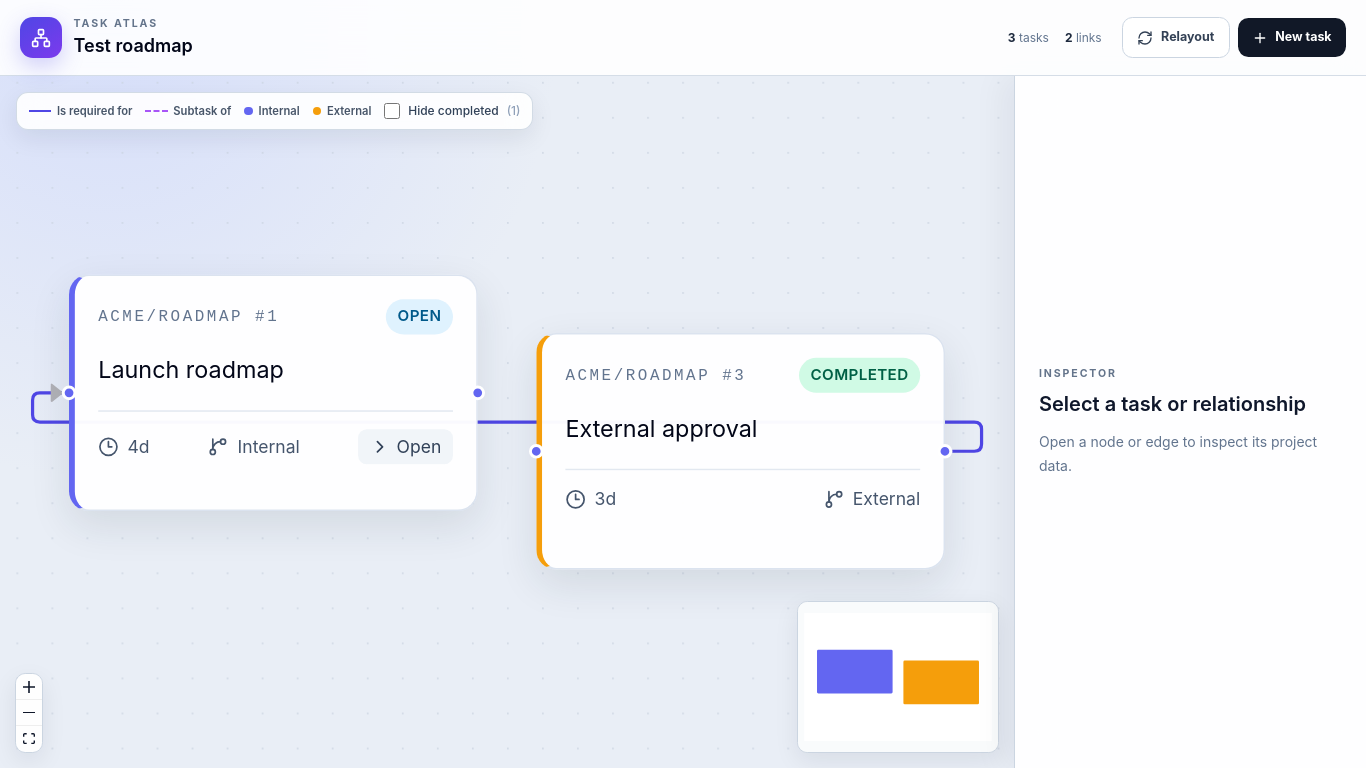
Test: App › creates a task through the API and selects its new graph node
Click the button "New task": (1292, 38) [1238,18,1346,57]
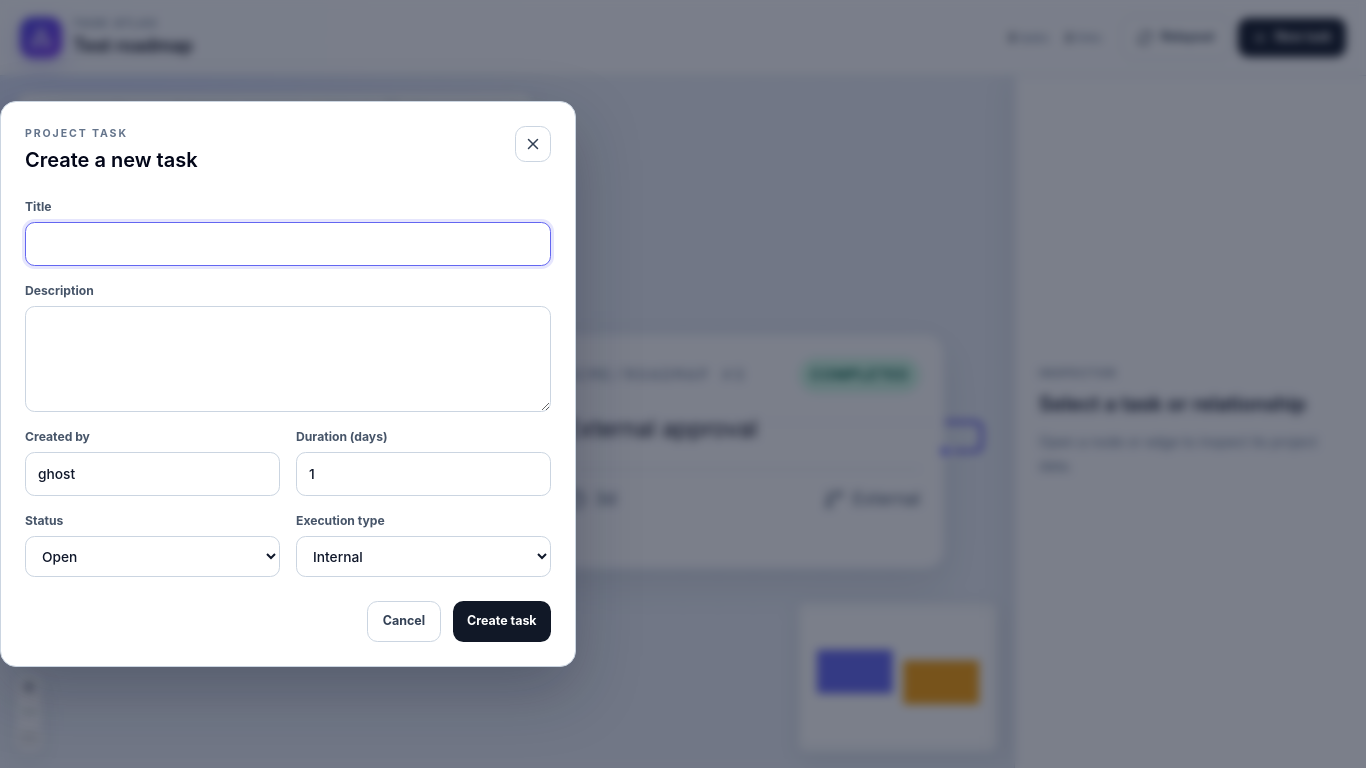
In the field labelled "Title": (288, 244) [25,222,551,266], type "Write release notes"
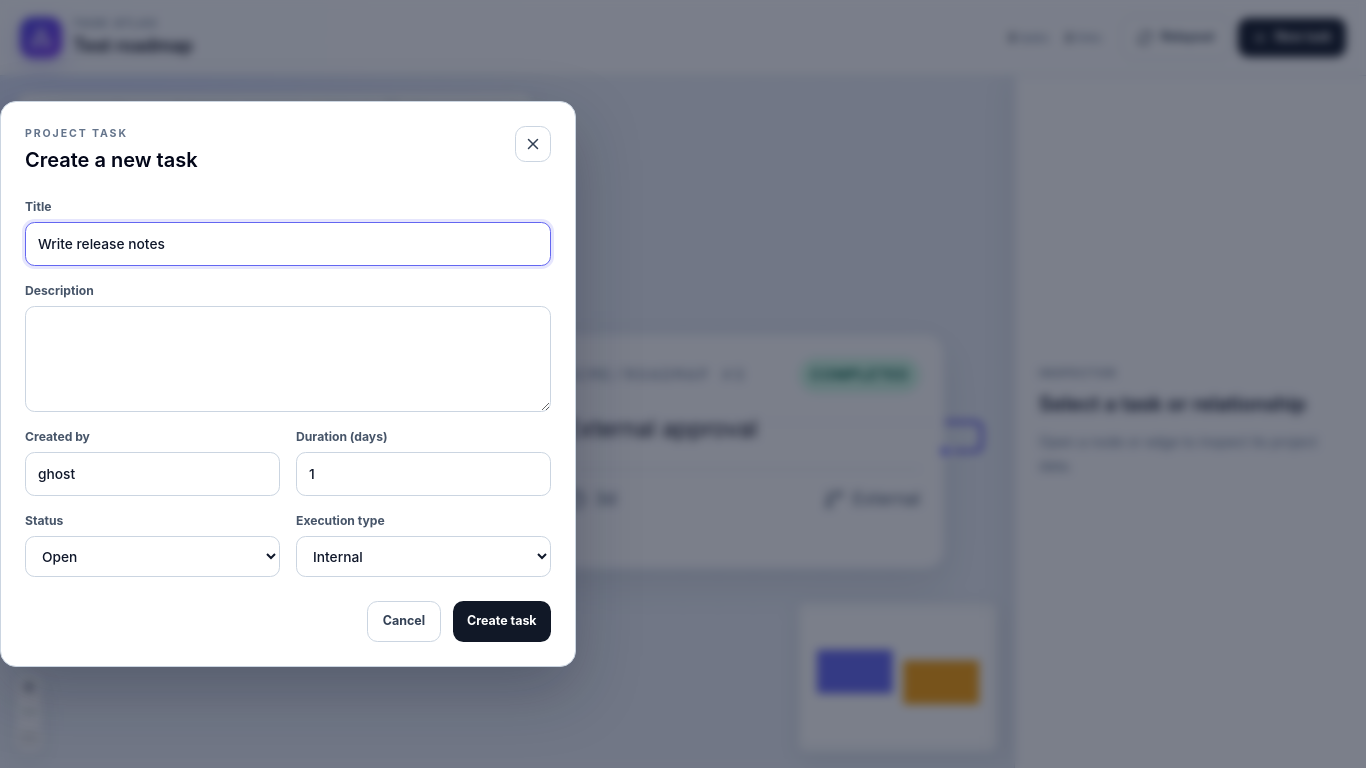
In the text box labelled "Description": (288, 359) [25,306,551,412], type "Summarize the delivered changes."
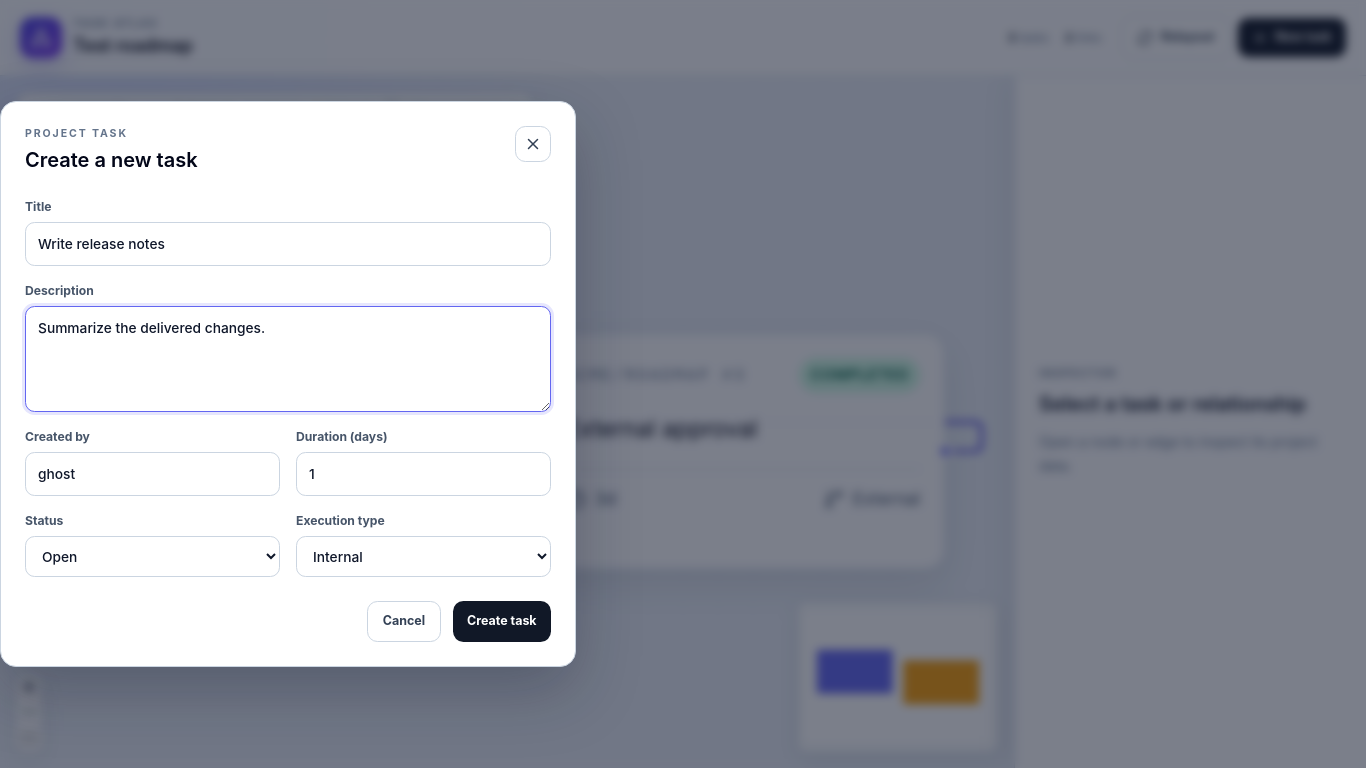
Replace the text in the field labelled "Created by" with "jann": (152, 474) [25,452,280,496]
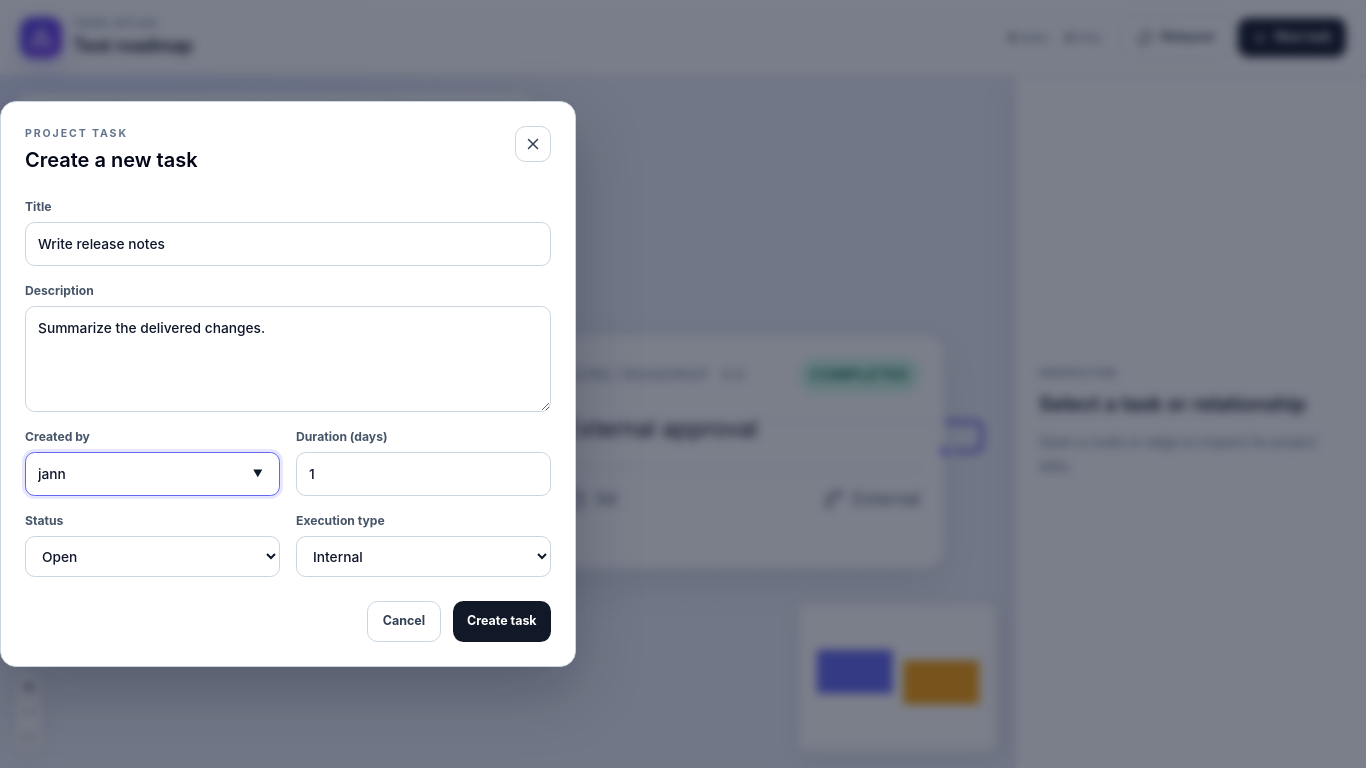
Replace the text in the number field labelled "Duration (days)" with "0.5": (424, 474) [296,452,551,496]
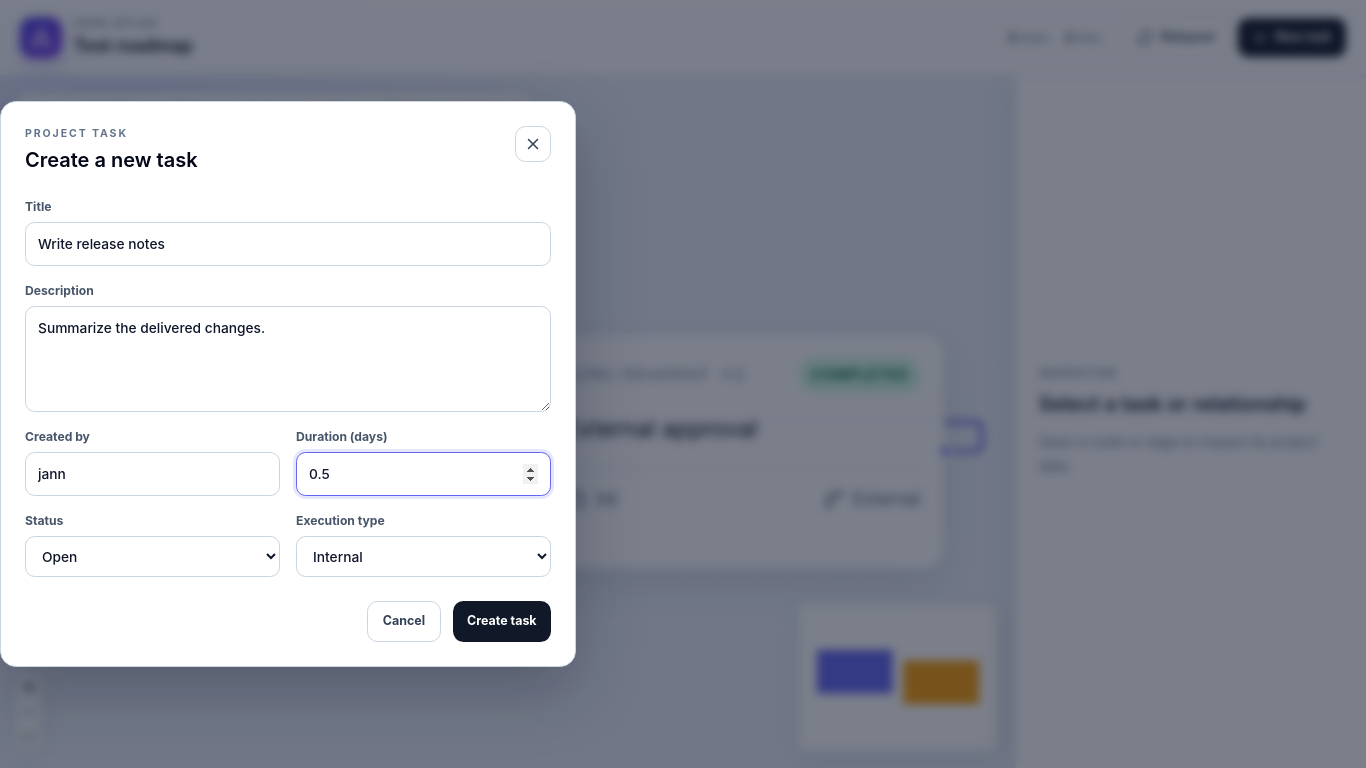
Click the button "Create task": (502, 622) [452,601,551,642]
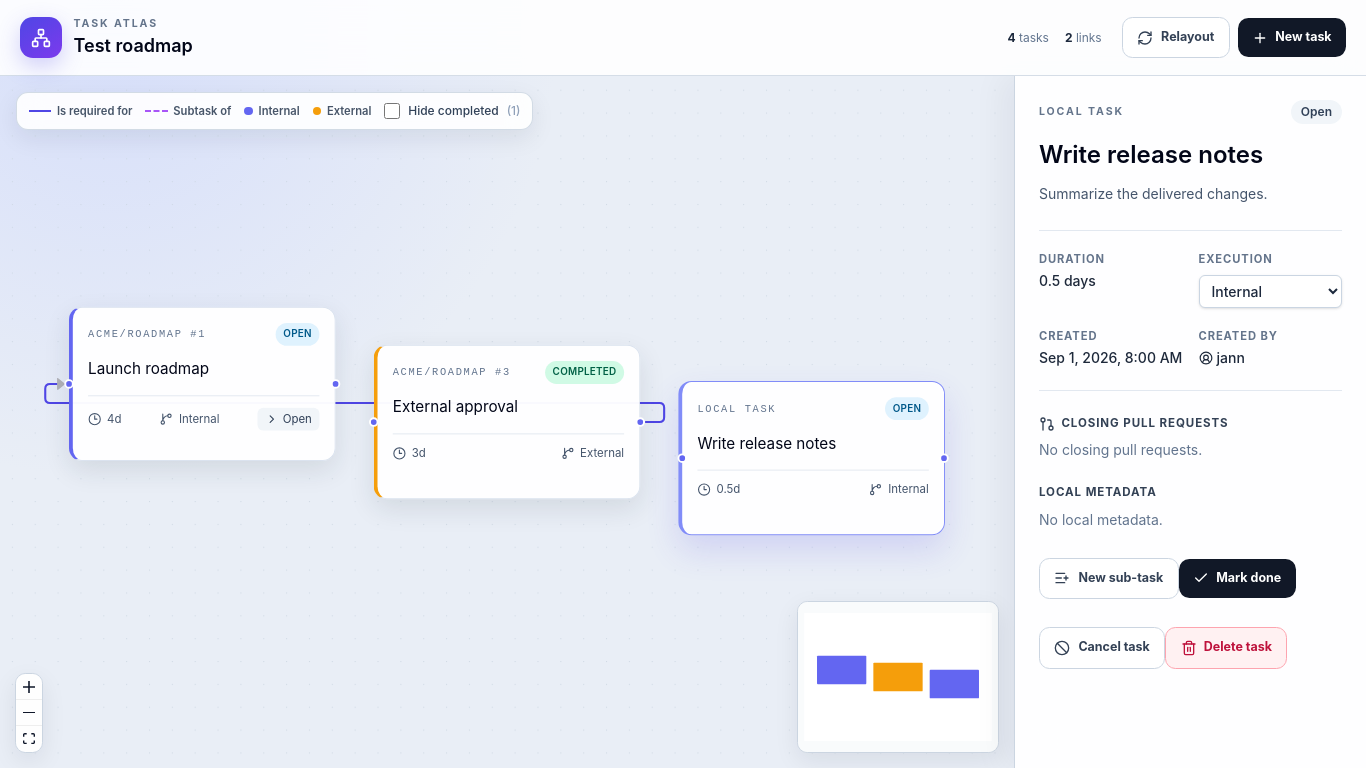
Check: the heading "Write release notes" is shown, box [1039,140,1263,169]
Check: the dialog is gone
